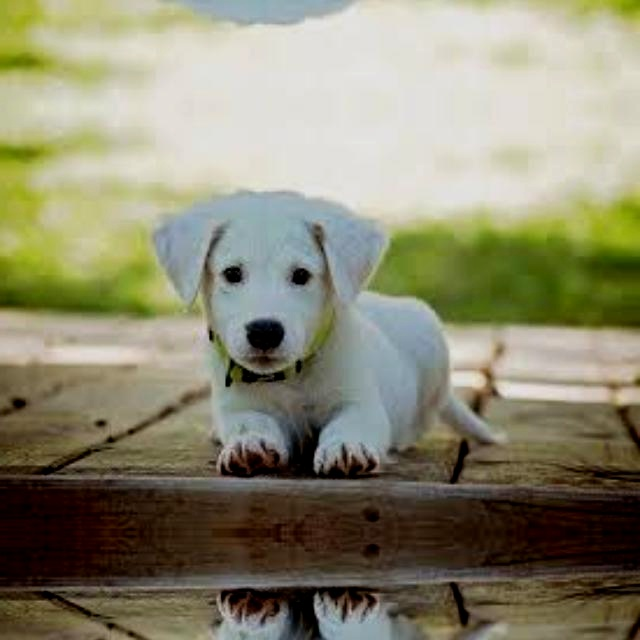dog: (137, 180, 472, 505), (137, 560, 472, 640), (137, 0, 472, 34)
